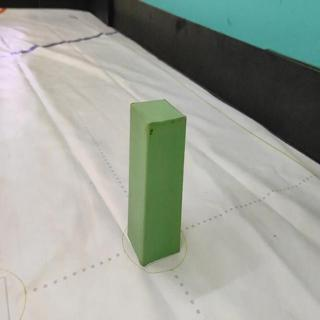greenbox: (127, 95, 188, 267)
